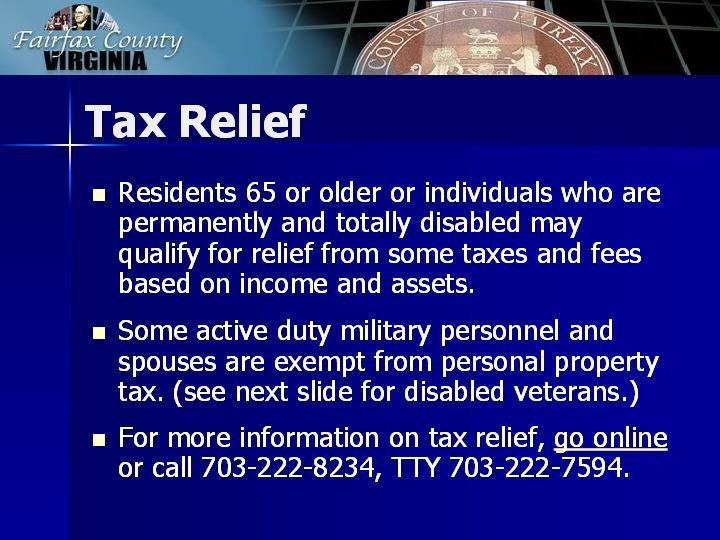paragraph: (77, 163, 695, 506)
subtitle: (6, 22, 192, 76)
title: (80, 91, 319, 150)
